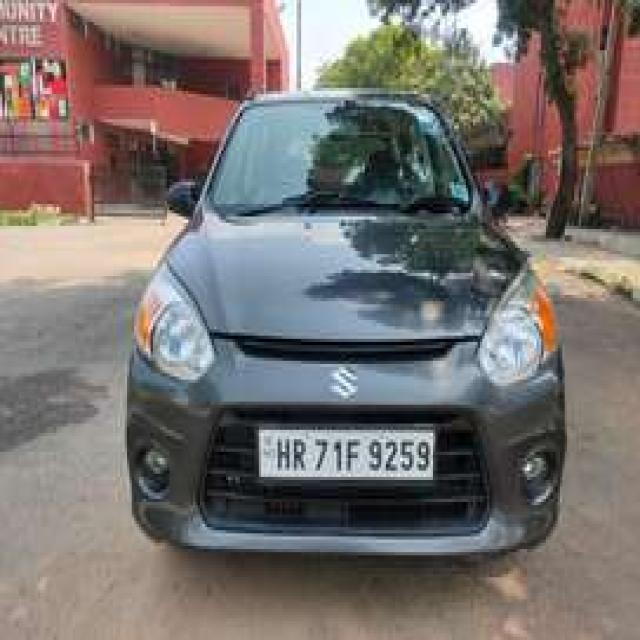licenseplate: (258, 426, 435, 478)
